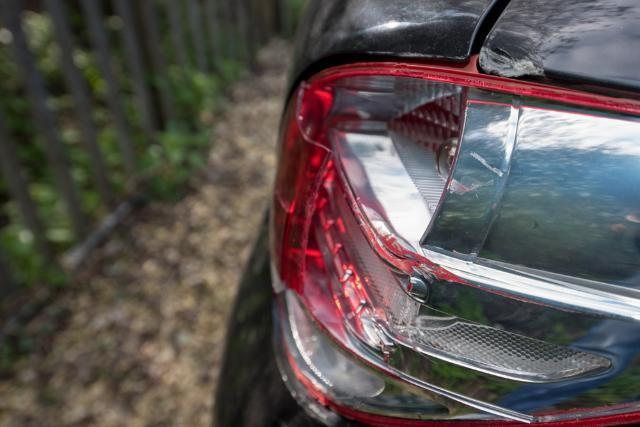dent: (481, 29, 553, 76)
lamp broken: (272, 60, 640, 427)
